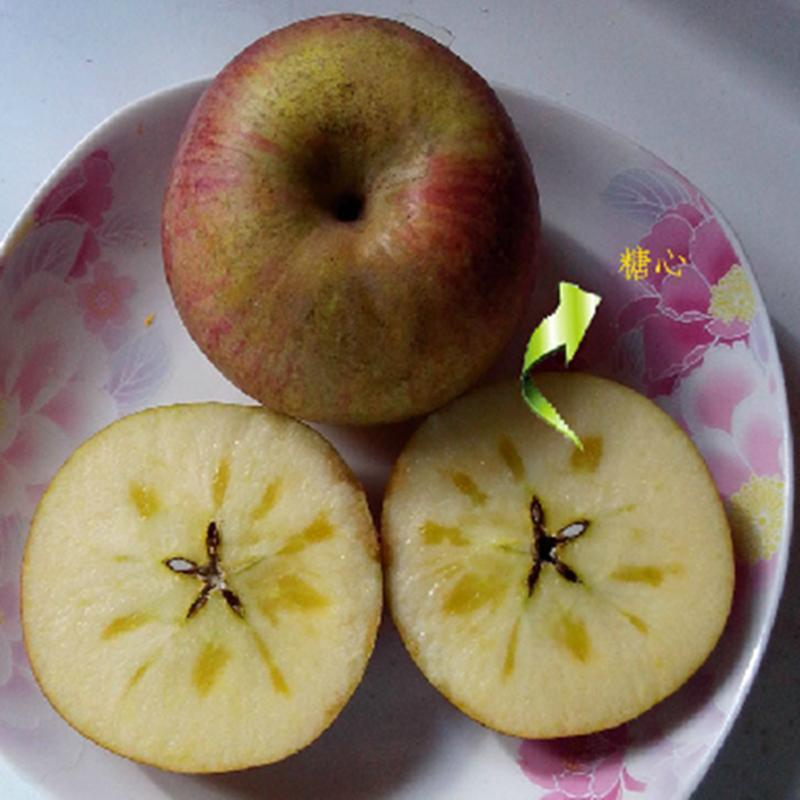apple: (158, 16, 547, 436)
